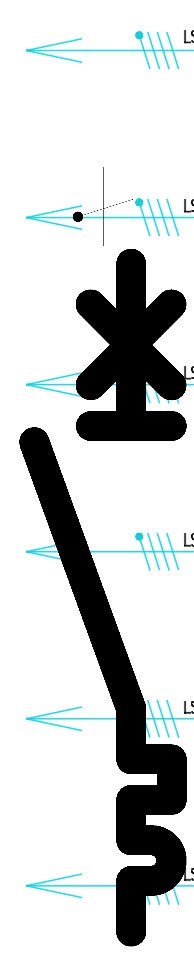interruptor_termomagnetico: (17, 246, 189, 949)
